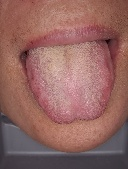tongue: (25, 49, 115, 126)
